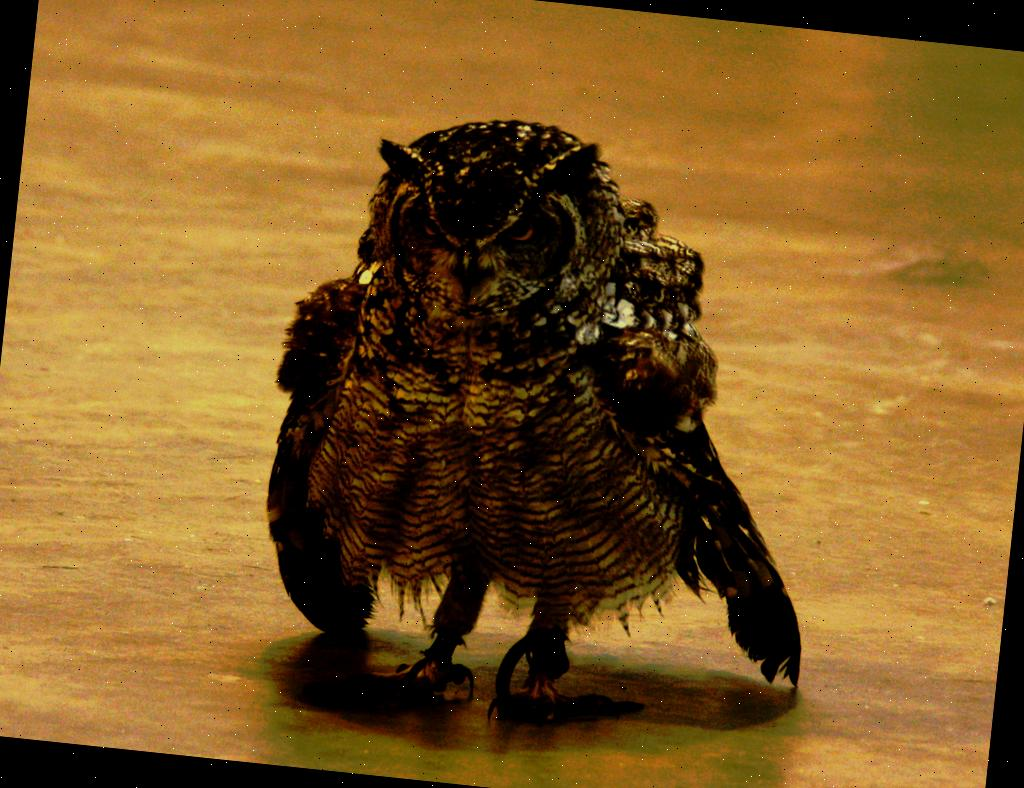Owl: (238, 92, 861, 763)
